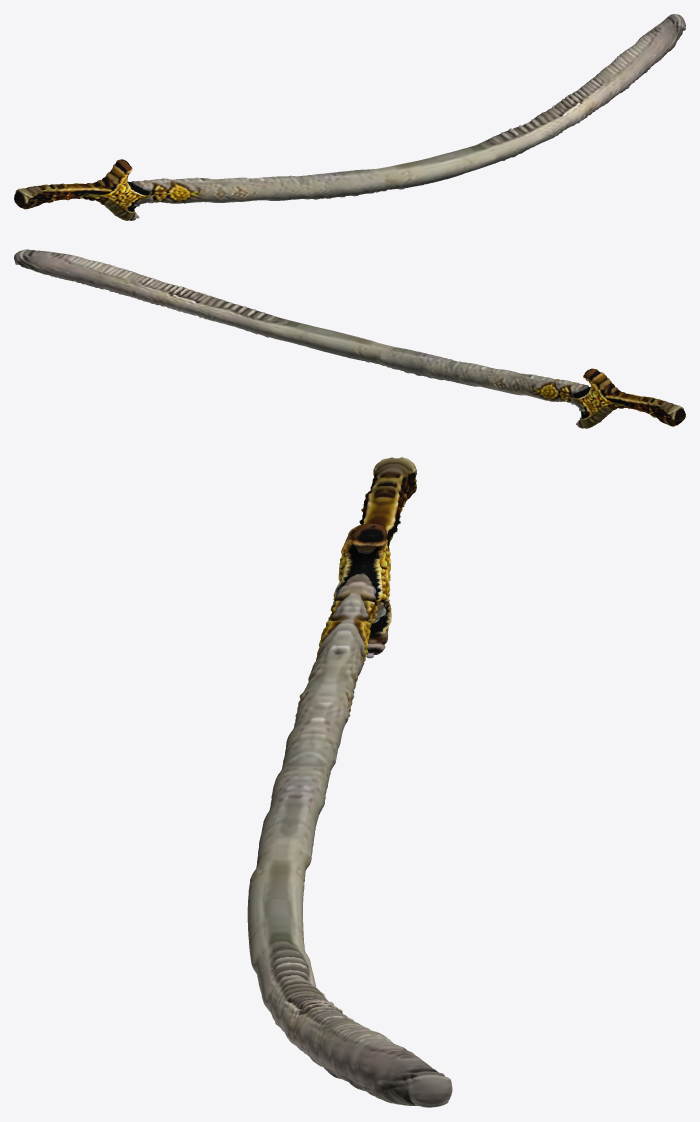
File: kfl-2127.glb
3 views of the same model, one above another, from view 1: azimuth 30°, elevation 25°; view 2: azimuth 150°, elevation 25°; view 3: azimuth 270°, elevation 25° (orthographic). The views are drawn at different scales.
Visible parts, largest first — view 1: kfl-2127; view 2: kfl-2127; view 3: kfl-2127.
Boxes of the visible parts, x1,y1,x2,y2 form: kfl-2127: [14, 14, 685, 220]; kfl-2127: [14, 249, 685, 428]; kfl-2127: [247, 457, 452, 1107].
Bounding box in the file's own units: 0.9865 × 0.1001 × 0.1327.
Materials: 1 (1 with a texture image).
